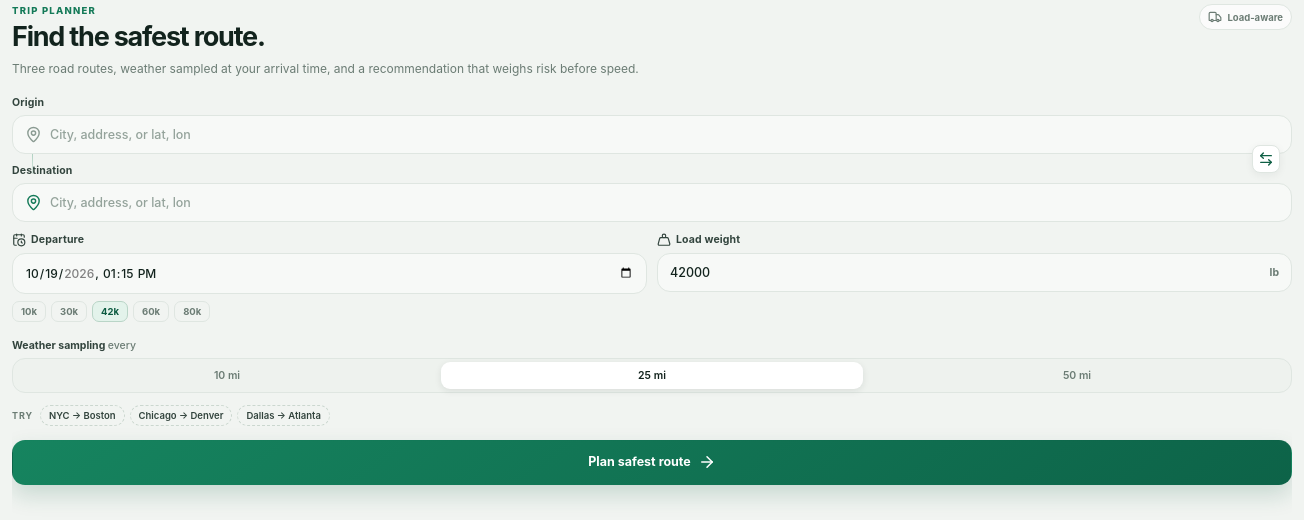
Test: PlannerForm › fills an example and swaps endpoints
Click the button "NYC → Boston": click(82, 415) [40,405,124,426]
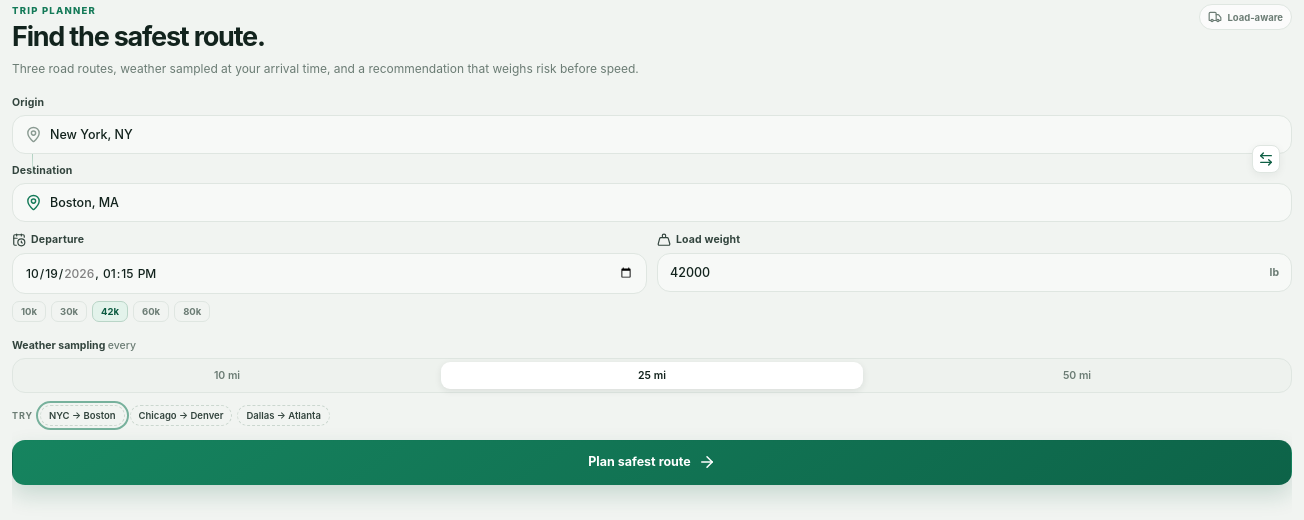
Expected: the field labelled "Origin" holds "New York, NY", [13,116,1291,153]
Expected: the field labelled "Destination" holds "Boston, MA", [13,184,1291,221]
Click the button named "Swap origin and destination": click(1266, 159) [1252,145,1280,173]
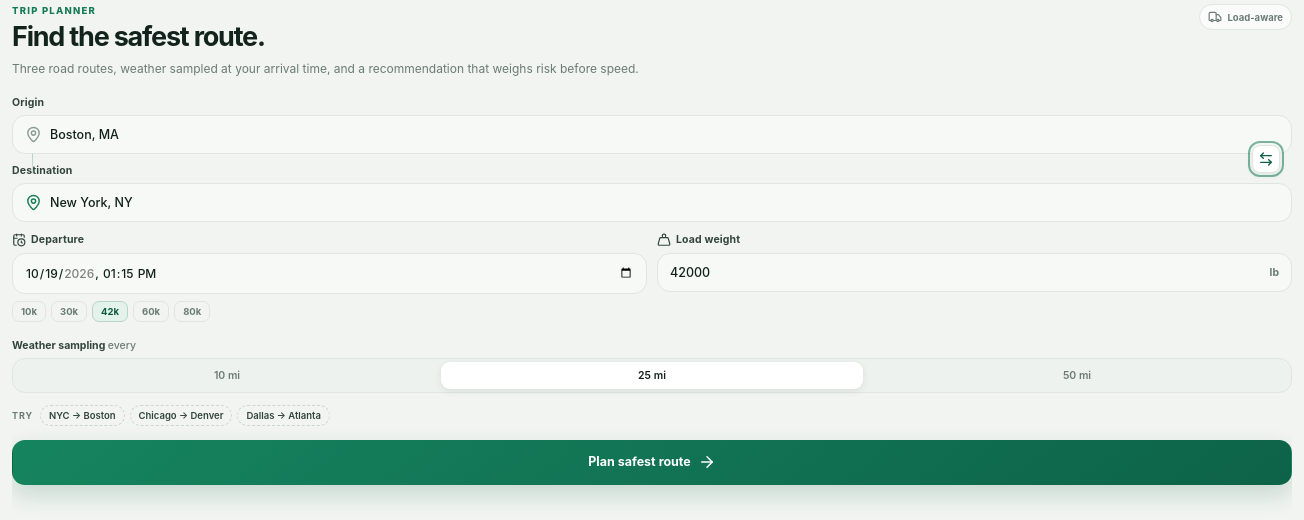
Expected: the field labelled "Origin" holds "Boston, MA", [13,116,1291,153]
Expected: the field labelled "Destination" holds "New York, NY", [13,184,1291,221]
